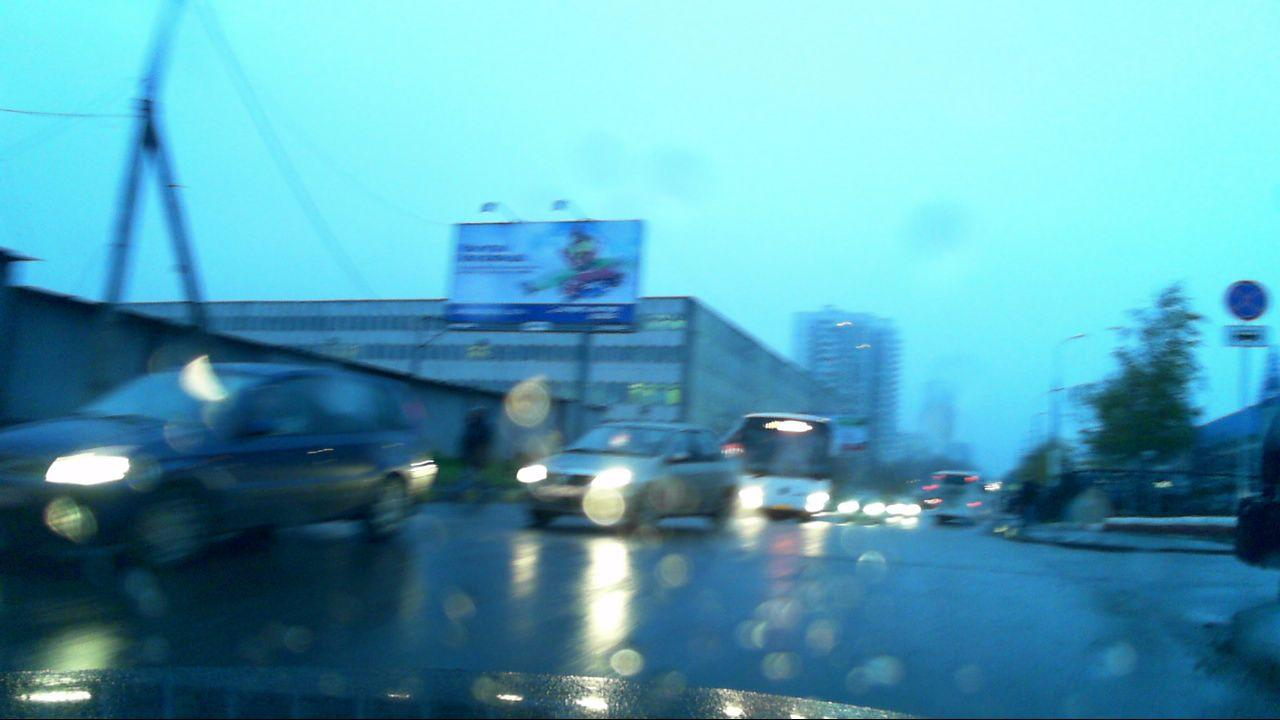3_27: (1226, 277, 1270, 323)
8_4_4: (1222, 327, 1271, 347)
